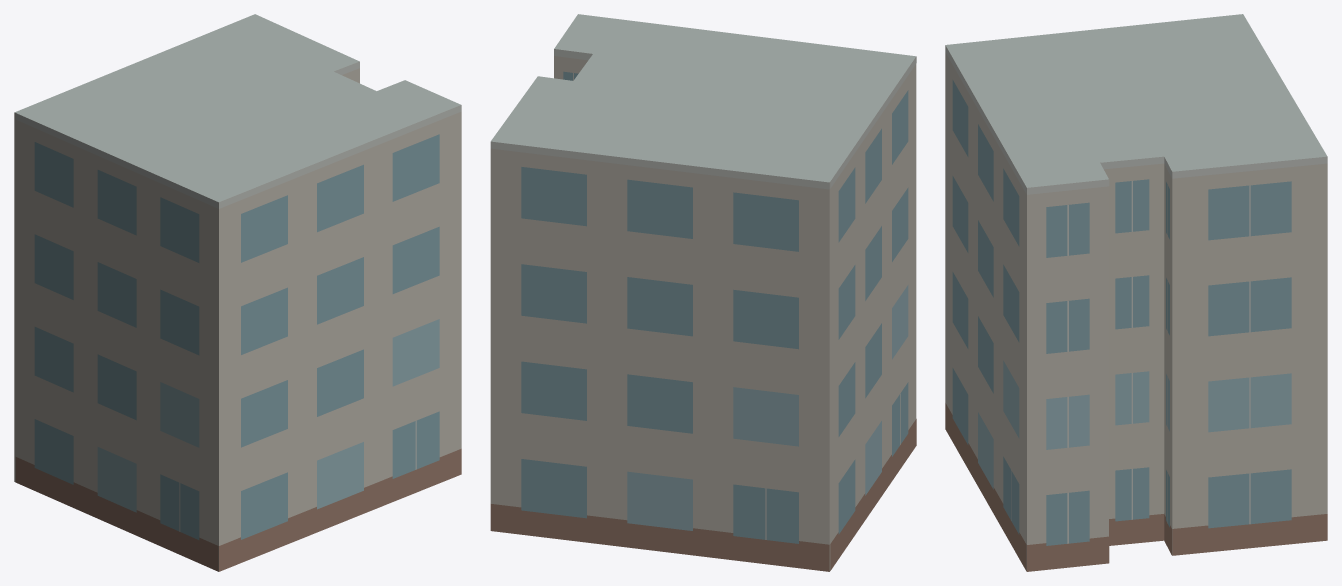
The model's file is survey-upis-32991871.glb.
3 renders of one model, left to right at view 1: azimuth 30°, elevation 25°; view 2: azimuth 150°, elevation 25°; view 3: azimuth 270°, elevation 25°, orthographic. The views are drawn at different scales.
Visible parts, largest first — view 1: survey-upis-32991871.tmp; view 2: survey-upis-32991871.tmp; view 3: survey-upis-32991871.tmp.
Boxes of the visible parts, x1,y1,x2,y2 form: survey-upis-32991871.tmp: (14,14,461,571); survey-upis-32991871.tmp: (490,14,916,571); survey-upis-32991871.tmp: (945,14,1327,571).
Size of the model in its own units: 13.12 by 13.5 by 12.19.
